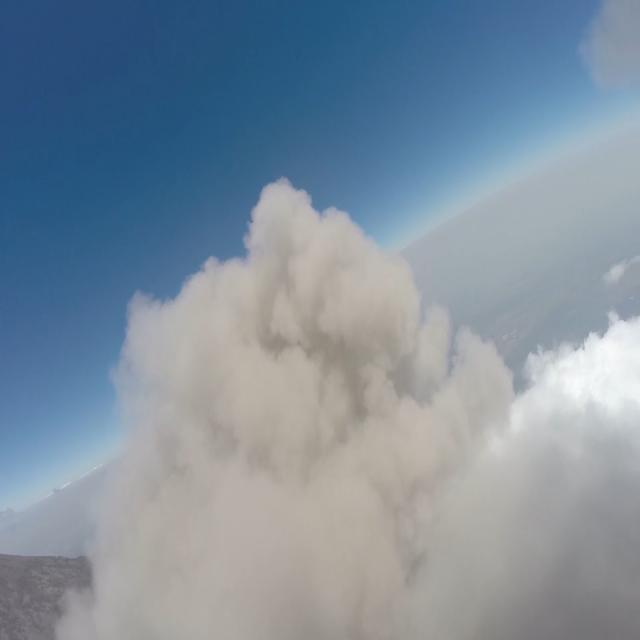Plume: (115, 170, 639, 640)
